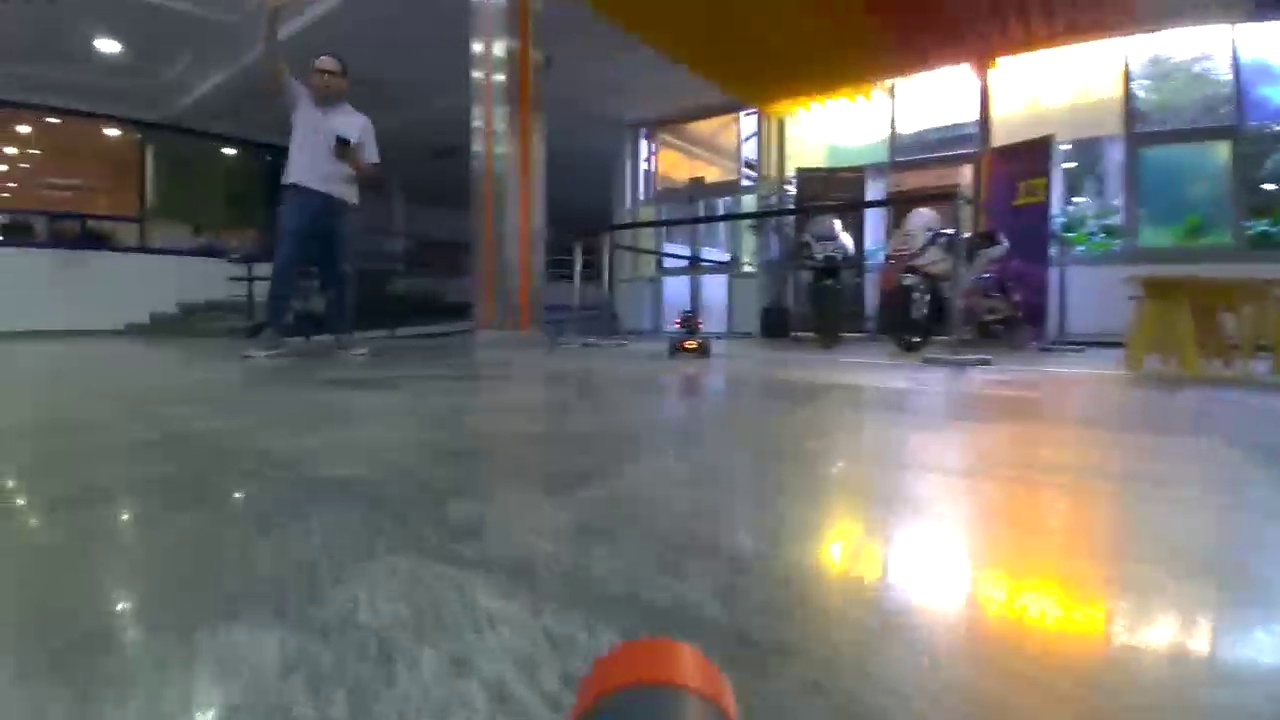robot: (671, 309, 711, 358)
